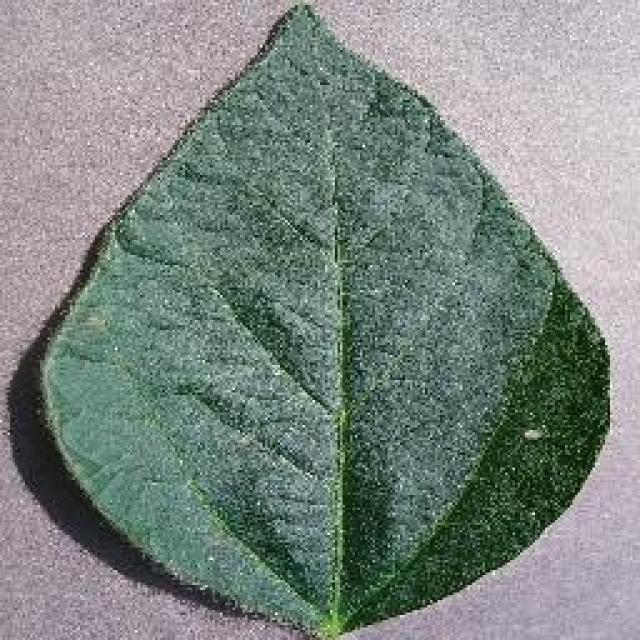Soy_healthy: (72, 89, 572, 586)
